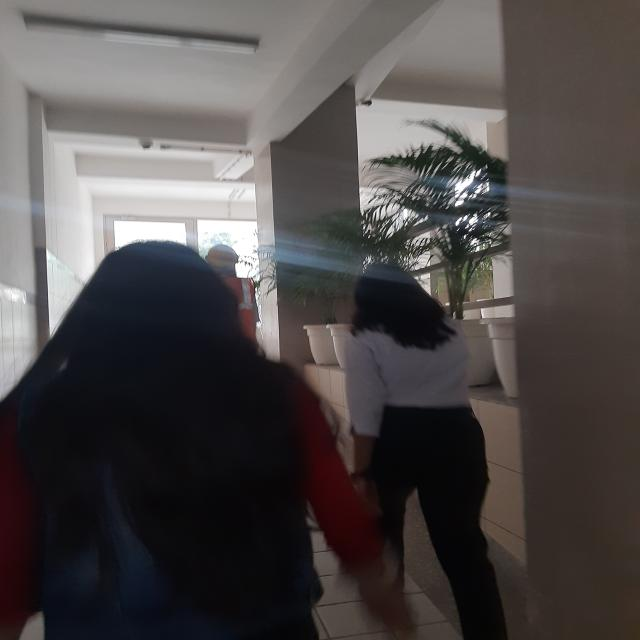unsafe: (2, 237, 391, 640), (326, 257, 516, 639)
